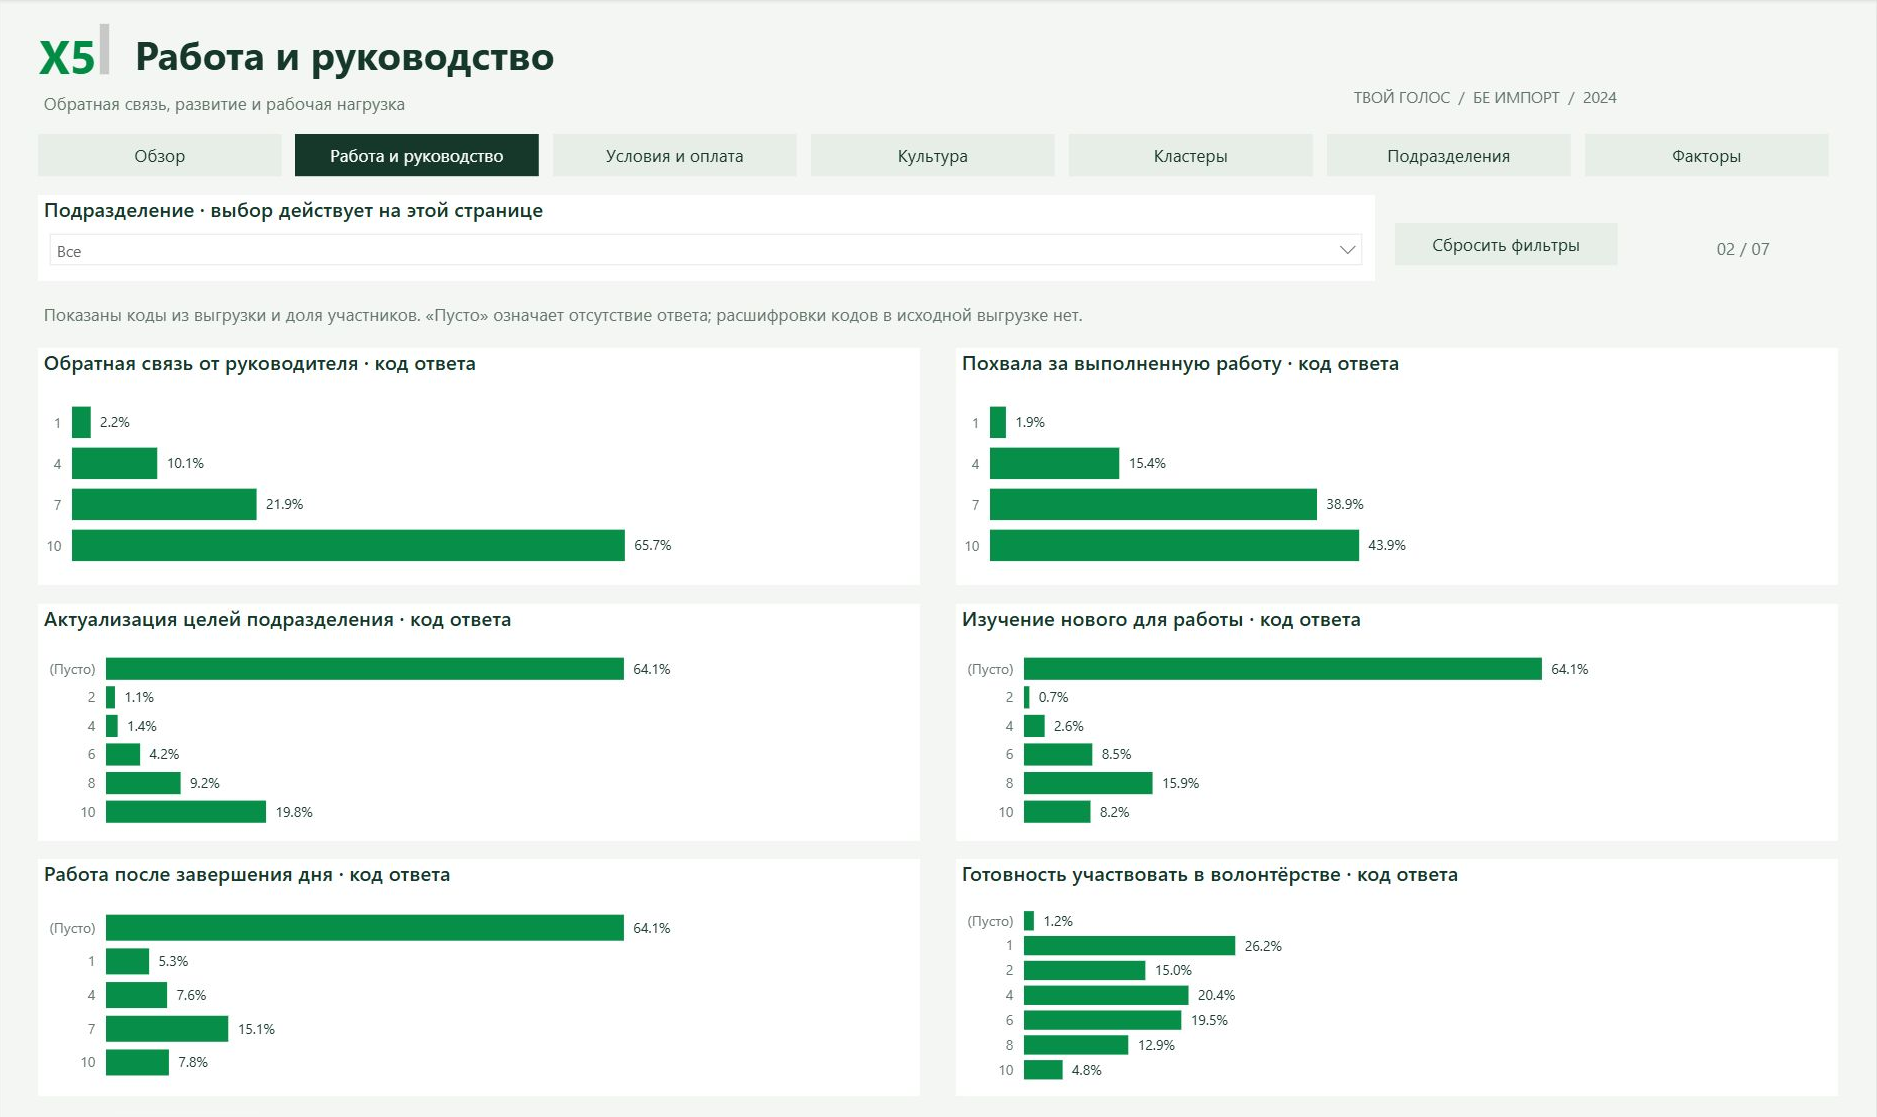

The dashboard page shown, as its layout file describes it:
{"tool":"powerbi","page":{"name":"02 Работа и руководство","canvas":[1600,1000],"ordinal":1},"visuals":[{"type":"textbox","box":[28,16,70,58],"z":25000},{"type":"textbox","box":[110,20,1280,54],"z":26000},{"type":"textbox","box":[1150,70,420,36],"z":27000},{"type":"textbox","box":[32,73,1100,40],"z":28000},{"type":"actionButton","box":[32,115,208,36],"z":29000},{"type":"actionButton","box":[252,115,208,36],"z":30000},{"type":"actionButton","box":[472,115,208,36],"z":31000},{"type":"actionButton","box":[692,115,208,36],"z":32000},{"type":"actionButton","box":[912,115,208,36],"z":33000},{"type":"actionButton","box":[1132,115,208,36],"z":34000},{"type":"actionButton","box":[1352,115,208,36],"z":35000},{"type":"slicer","title":"Подразделение · выбор действует на этой странице","fields":{"Values":["Выгрузка_X5.Подразделение_2","Выгрузка_X5.Подразделение_3","Выгрузка_X5.Подразделение_4","Выгрузка_X5.Подразделение_5"]},"box":[32,167,1140,73],"z":36000},{"type":"actionButton","box":[1190,191,190,36],"z":37000},{"type":"textbox","box":[1460,197,100,35],"z":38000},{"type":"textbox","box":[32,958,1480,34],"z":39000},{"type":"textbox","box":[32,253,1510,40],"z":40000},{"type":"barChart","title":"Обратная связь от руководителя · код ответа","fields":{"Category":["Выгрузка_X5.Как часто Вы получаете обратную связь о своей работе от непосредственного руководителя?"],"Y":["CountNonNull(Выгрузка_X5.ID)"]},"box":[32,298,752,202],"z":41000},{"type":"barChart","title":"Похвала за выполненную работу · код ответа","fields":{"Category":["Выгрузка_X5.Как часто Ваш непосредственный руководитель хвалит Вас за хорошо выполненную работу?"],"Y":["CountNonNull(Выгрузка_X5.ID)"]},"box":[816,298,752,202],"z":42000},{"type":"barChart","title":"Актуализация целей подразделения · код ответа","fields":{"Category":["Выгрузка_X5.Как часто Вы актуализируете цели подразделения с непосредственным руководителем?"],"Y":["CountNonNull(Выгрузка_X5.ID)"]},"box":[32,516,752,202],"z":43000},{"type":"barChart","title":"Изучение нового для работы · код ответа","fields":{"Category":["Выгрузка_X5.Как часто Вы изучаете что-то новое для эффективности выполнения работы?"],"Y":["CountNonNull(Выгрузка_X5.ID)"]},"box":[816,516,752,202],"z":44000},{"type":"barChart","title":"Работа после завершения дня · код ответа","fields":{"Category":["Выгрузка_X5.Часто ли Вы остаетесь после завершения рабочего дня, чтобы доделать работу?"],"Y":["CountNonNull(Выгрузка_X5.ID)"]},"box":[32,734,752,202],"z":45000},{"type":"barChart","title":"Готовность участвовать в волонтёрстве · код ответа","fields":{"Category":["Выгрузка_X5.Как часто Вы готовы принимать участие в волонтёрских мероприятиях компании в интересующей вас тематике и удо"],"Y":["CountNonNull(Выгрузка_X5.ID)"]},"box":[816,734,752,202],"z":46000}]}

Visuals, with their boxes on the page's 1600x1000 design canvas (x1, y1, x2, y2). These are canvas units, not pixel positions in the 1877x1117 screenshot, which may show the page scaled, cropped or inside an application window:
textbox: <box>28,16,98,74</box>
textbox: <box>110,20,1390,74</box>
textbox: <box>1150,70,1570,106</box>
textbox: <box>32,73,1132,113</box>
actionButton: <box>32,115,240,151</box>
actionButton: <box>252,115,460,151</box>
actionButton: <box>472,115,680,151</box>
actionButton: <box>692,115,900,151</box>
actionButton: <box>912,115,1120,151</box>
actionButton: <box>1132,115,1340,151</box>
actionButton: <box>1352,115,1560,151</box>
"Подразделение · выбор действует на этой странице" slicer: <box>32,167,1172,240</box>
actionButton: <box>1190,191,1380,227</box>
textbox: <box>1460,197,1560,232</box>
textbox: <box>32,958,1512,992</box>
textbox: <box>32,253,1542,293</box>
"Обратная связь от руководителя · код ответа" barChart: <box>32,298,784,500</box>
"Похвала за выполненную работу · код ответа" barChart: <box>816,298,1568,500</box>
"Актуализация целей подразделения · код ответа" barChart: <box>32,516,784,718</box>
"Изучение нового для работы · код ответа" barChart: <box>816,516,1568,718</box>
"Работа после завершения дня · код ответа" barChart: <box>32,734,784,936</box>
"Готовность участвовать в волонтёрстве · код ответа" barChart: <box>816,734,1568,936</box>
